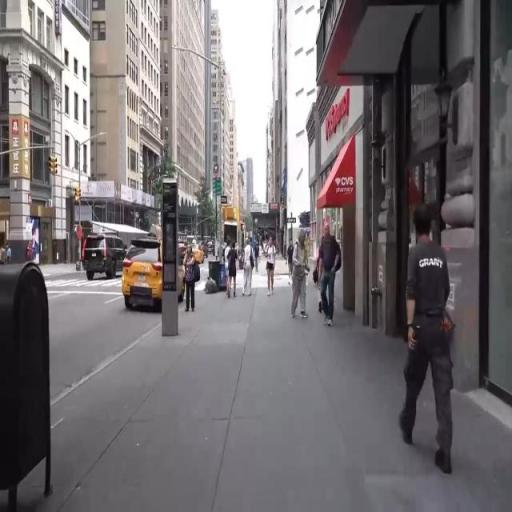person: (400, 202, 486, 512), (315, 228, 344, 339), (184, 240, 203, 317), (294, 229, 308, 319), (231, 244, 246, 308), (269, 238, 280, 298), (245, 237, 255, 291), (226, 239, 231, 285), (288, 236, 294, 270)
